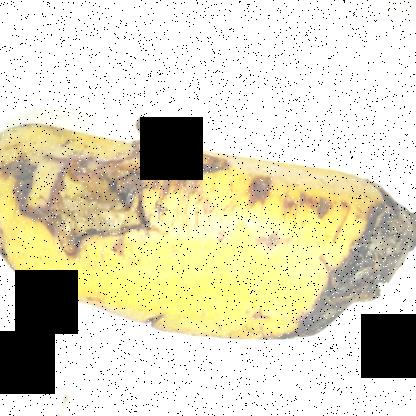rotten: (0, 84, 223, 262), (265, 159, 415, 362)
